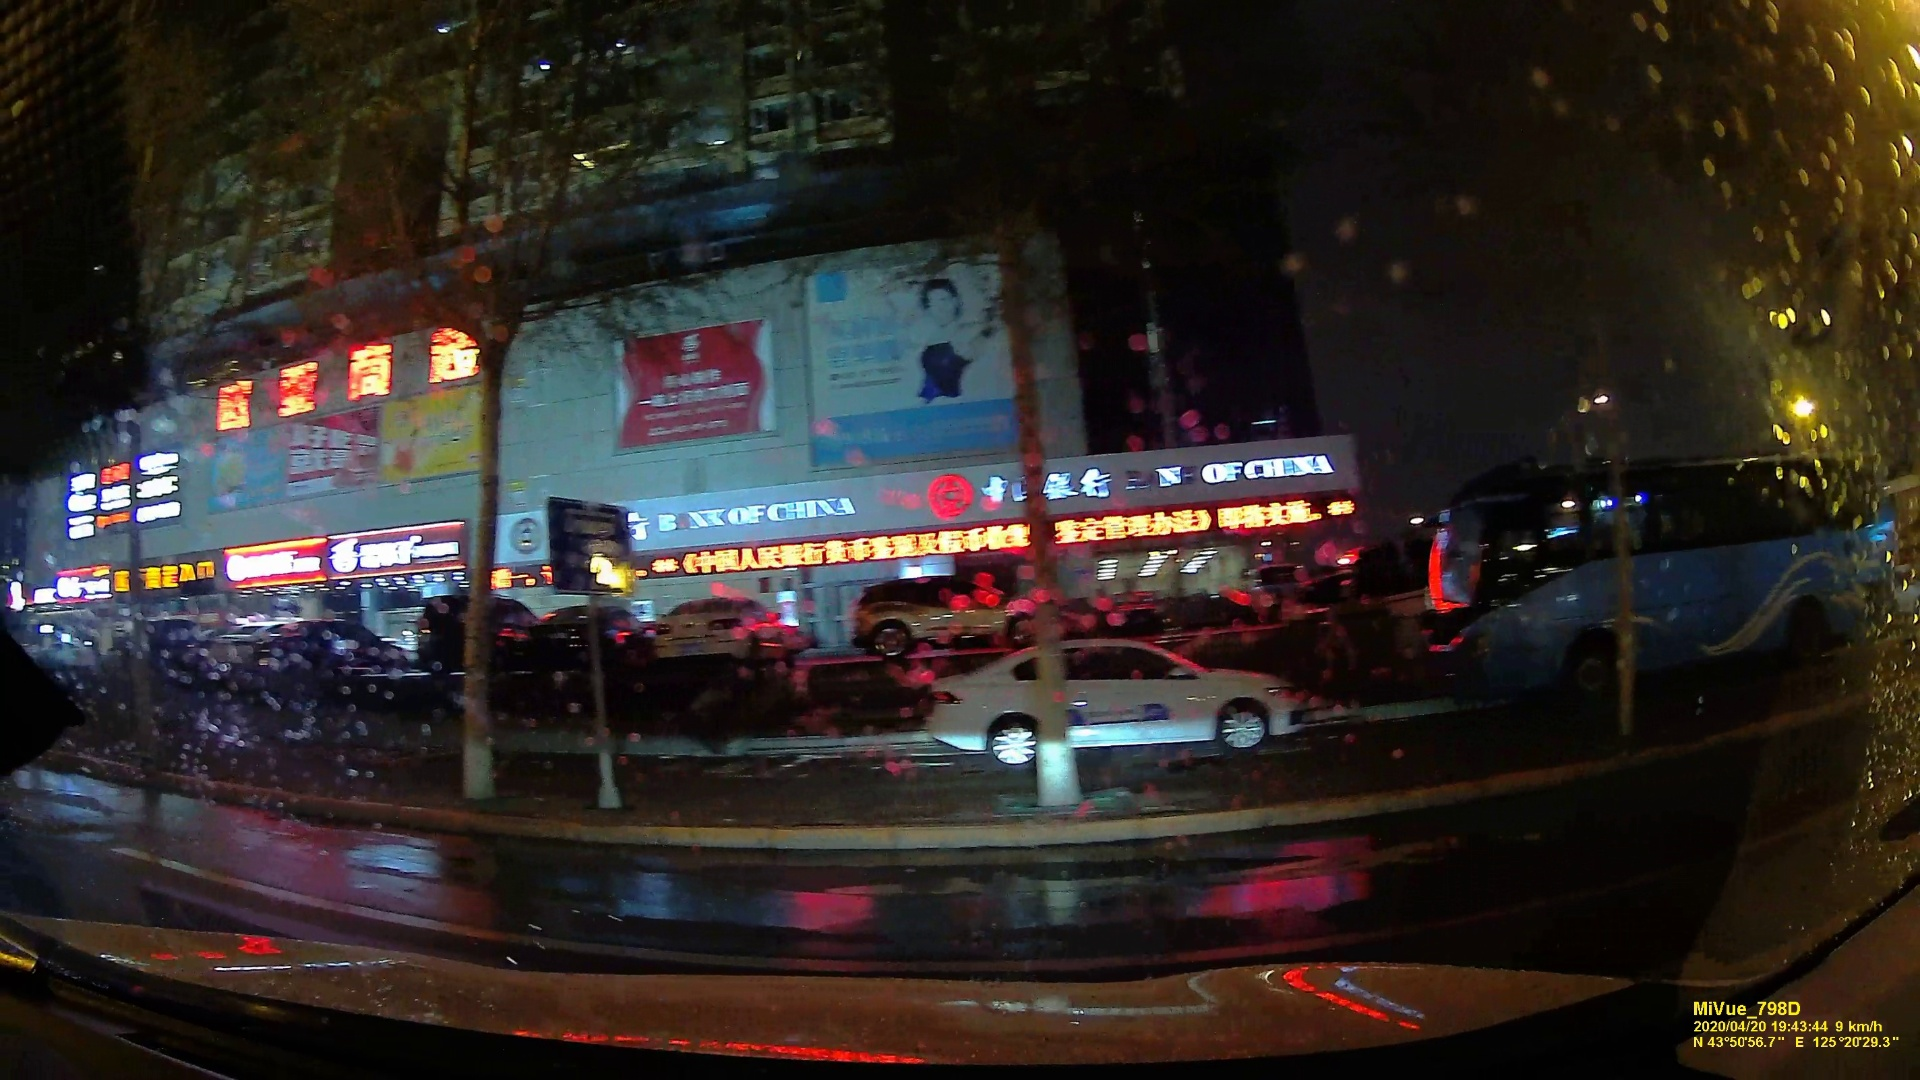bus: (1420, 444, 1890, 679)
vehicle: (931, 640, 1302, 775)
